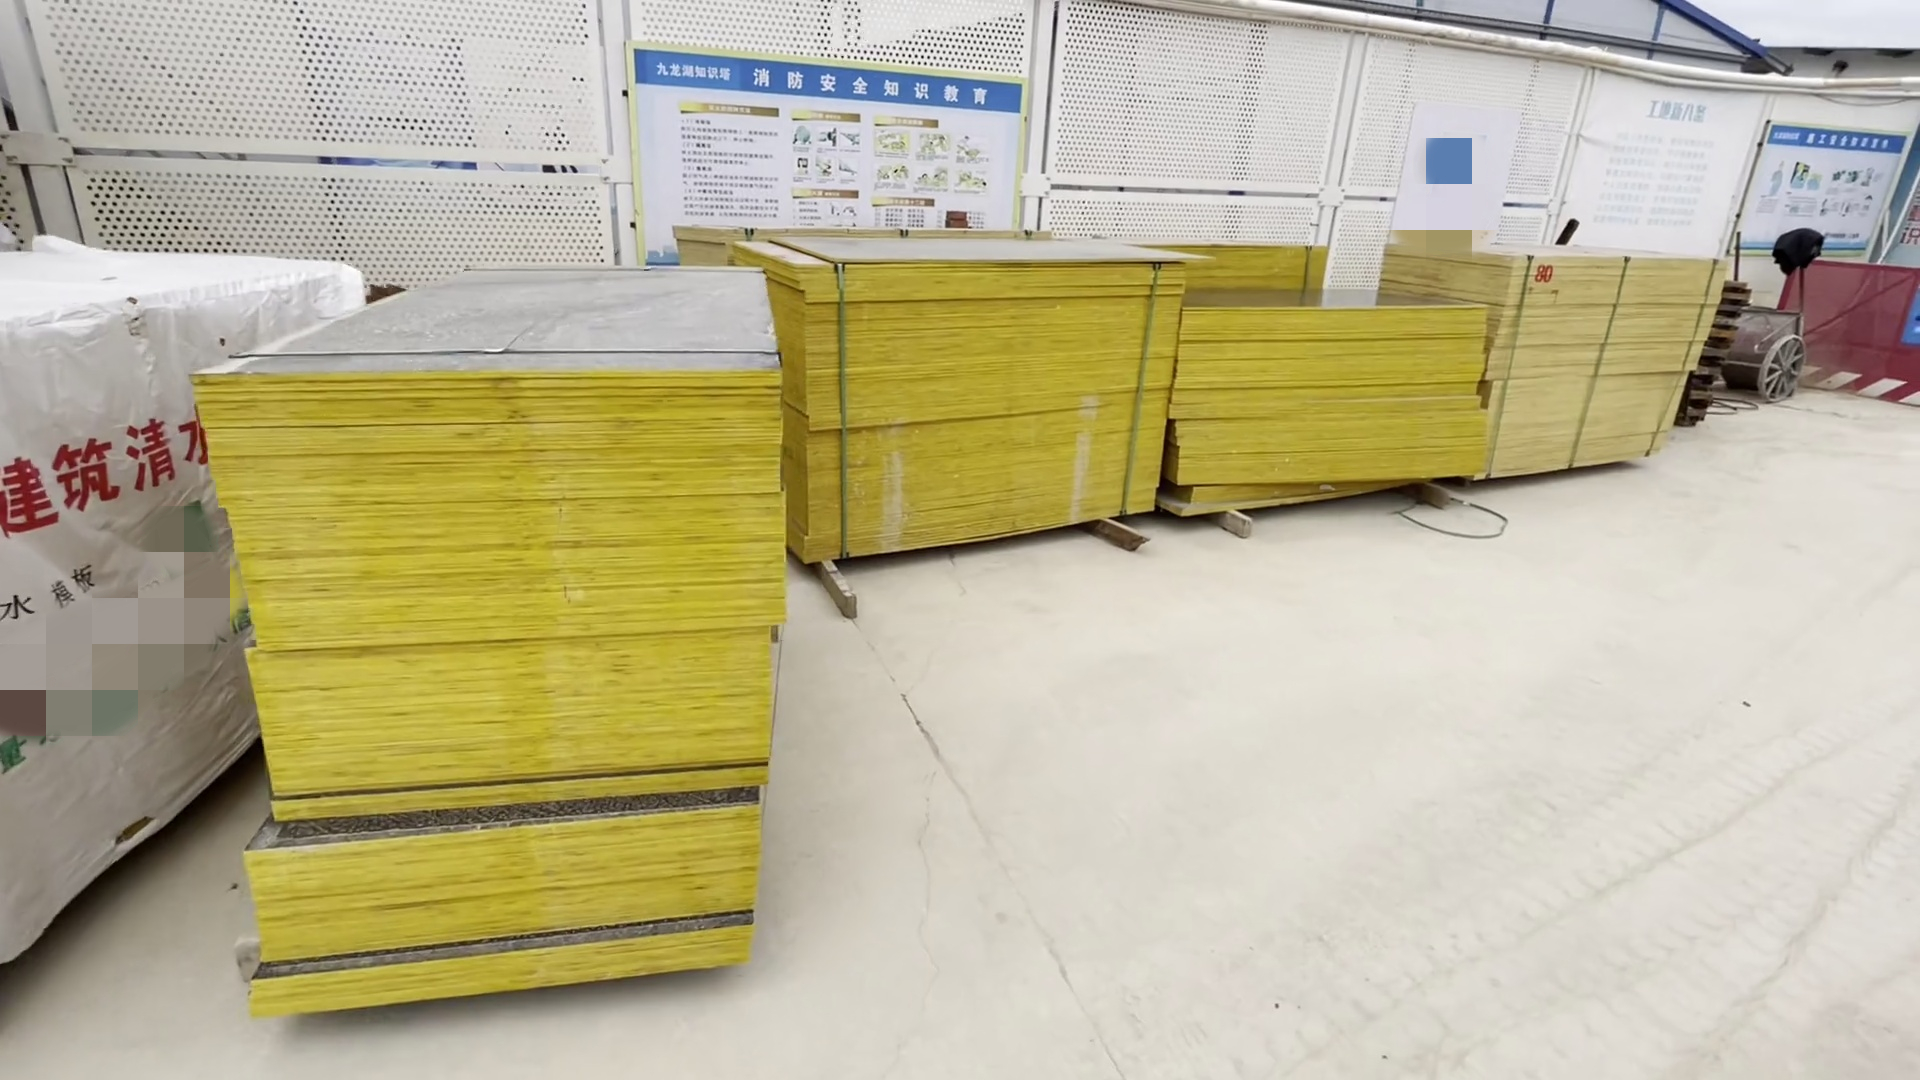board: (182, 276, 866, 1080), (815, 240, 1716, 589)
handcart: (1720, 235, 1815, 409)
